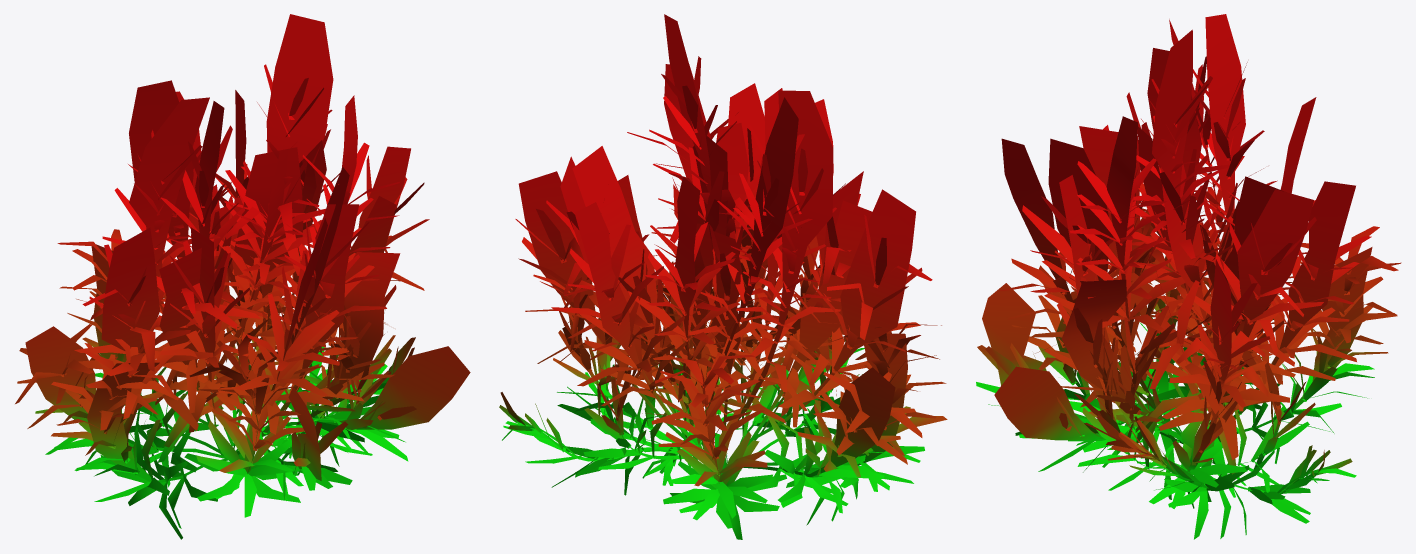
File: Var2_LOD5.fbx
3 renders of one model, left to right at view 1: azimuth 30°, elevation 25°; view 2: azimuth 150°, elevation 25°; view 3: azimuth 270°, elevation 25°, orthographic. The views are drawn at different scales.
Parts seen in each view (by area): view 1: _wd3w_Var2_LOD5; view 2: _wd3w_Var2_LOD5; view 3: _wd3w_Var2_LOD5.
Part boxes in pixels (left/top/right/bottom): _wd3w_Var2_LOD5: left=15, top=14, right=470, bottom=539; _wd3w_Var2_LOD5: left=499, top=14, right=947, bottom=539; _wd3w_Var2_LOD5: left=976, top=14, right=1401, bottom=539.
Size of the model in its own units: 26.68 by 30.03 by 23.27.
